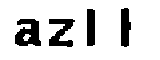a: (12, 18, 43, 49)
l: (84, 5, 108, 50), (119, 5, 140, 52)
z: (44, 16, 79, 50)
